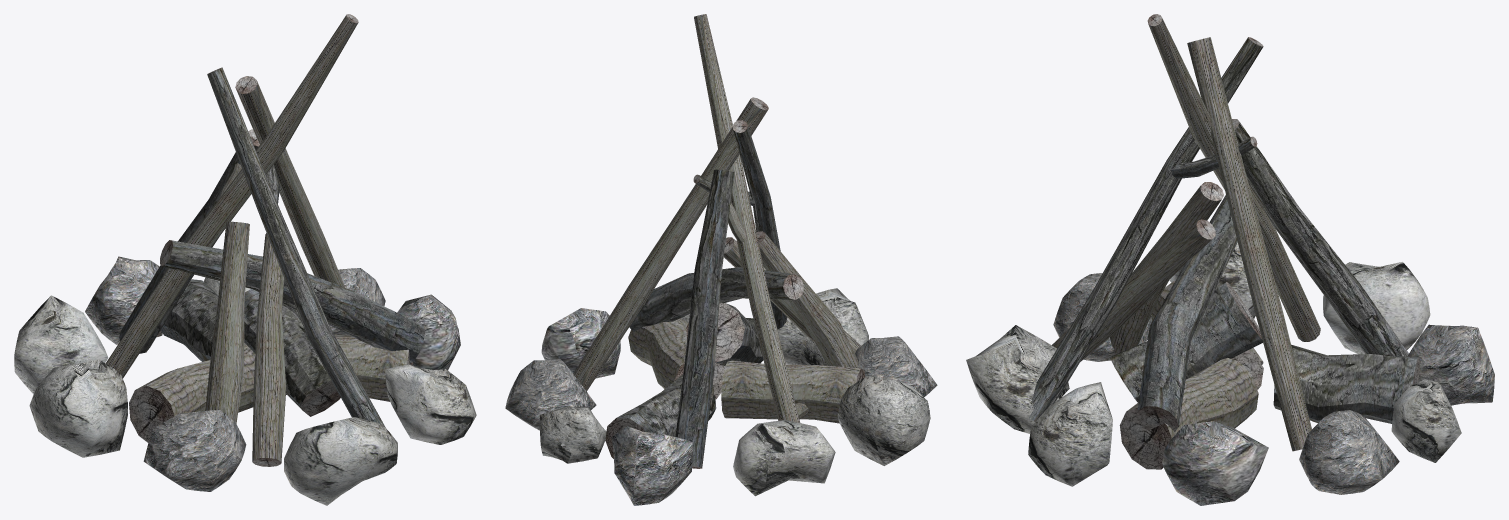
Rendered from campfire.fbx.
The picture shows the model from 3 angles, left to right: view 1: azimuth 30°, elevation 25°; view 2: azimuth 150°, elevation 25°; view 3: azimuth 270°, elevation 25°; orthographic projection. The views are drawn at different scales.
Visible parts, largest first — view 1: stick9, stick7, rock3, stick13, rock8, rock1, stick11, stick14, rock6, rock7, stick2, stick3 (+7 smaller); view 2: stick1, stick7, stick2, rock3, stick3, rock7, rock2, stick13, rock9, stick14, rock5, stick5 (+7 smaller); view 3: stick2, stick9, stick13, stick1, stick4, rock4, rock6, stick5, stick7, rock9, rock8, stick12 (+9 smaller).
Boxes of the visible parts, x1,y1,x2,y2 form: stick9: (207, 67, 385, 427); stick7: (106, 14, 358, 378); rock3: (29, 359, 127, 457); stick13: (160, 240, 424, 363); rock8: (284, 417, 397, 505); rock1: (143, 410, 246, 491); stick11: (252, 233, 286, 466); stick14: (205, 221, 249, 423); rock6: (385, 364, 476, 444); rock7: (14, 295, 108, 394); stick2: (235, 76, 344, 287); stick3: (129, 343, 255, 442); stick1: (675, 169, 734, 468); stick7: (694, 14, 800, 422); stick2: (573, 97, 768, 391); rock3: (837, 376, 930, 465); stick3: (721, 360, 865, 423); rock7: (733, 420, 835, 496); rock2: (611, 426, 692, 505); stick13: (629, 267, 803, 331); rock9: (505, 359, 596, 430); stick14: (756, 231, 857, 367); rock5: (539, 406, 606, 463); stick5: (628, 318, 724, 399); stick2: (1187, 37, 1311, 451); stick9: (1028, 37, 1263, 421); stick13: (1136, 195, 1237, 431); stick1: (1232, 119, 1408, 356); stick4: (1273, 344, 1420, 423); rock4: (1162, 421, 1268, 505); rock6: (1028, 382, 1112, 486); stick5: (1119, 358, 1258, 469); stick7: (1147, 14, 1320, 341); rock9: (1299, 410, 1399, 494); rock8: (966, 325, 1069, 433); stick12: (1110, 281, 1262, 402).
Size of the model in its own units: 7.97 by 7.68 by 8.22.
Materials: 5 (5 with a texture image).
